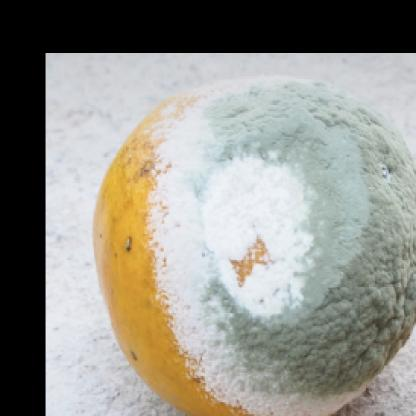rotten: (97, 75, 416, 416)
